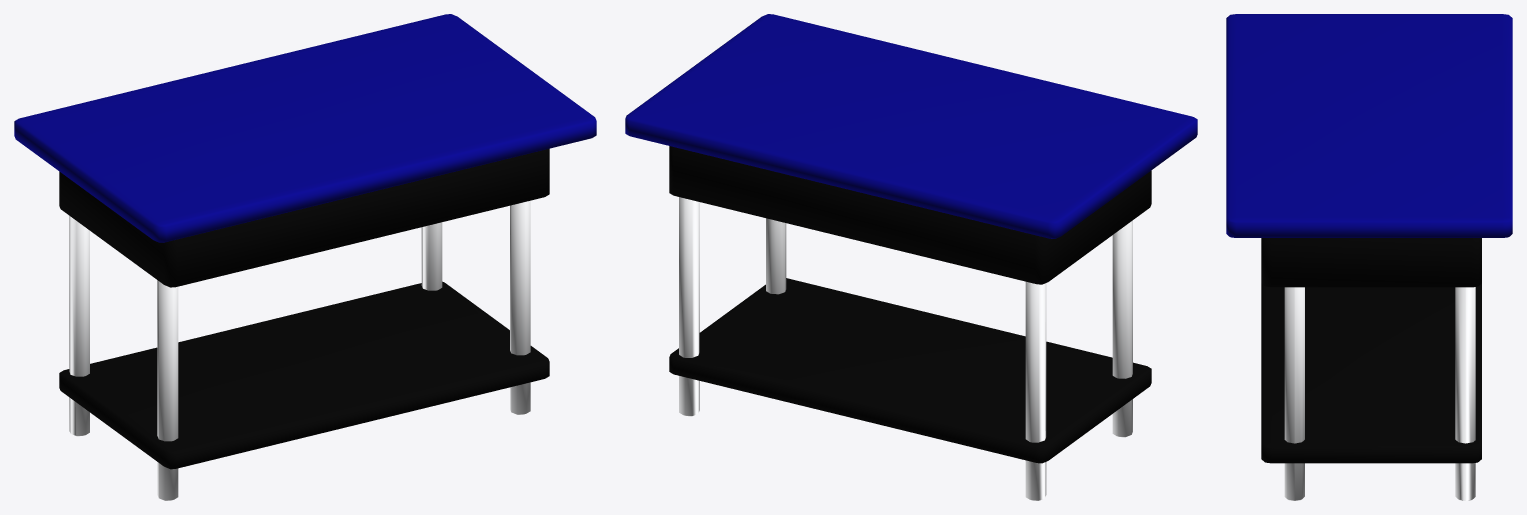
Rendered from SideTable.glb.
3 views of the same model, side by side, from view 1: azimuth 30°, elevation 25°; view 2: azimuth 150°, elevation 25°; view 3: azimuth 270°, elevation 25° (orthographic). The views are drawn at different scales.
Visible parts, largest first — view 1: SideTable; view 2: SideTable; view 3: SideTable.
Part boxes in pixels (x1=…): SideTable: x1=14, y1=14, x2=596, y2=500; SideTable: x1=625, y1=14, x2=1197, y2=500; SideTable: x1=1226, y1=14, x2=1512, y2=500.
Size of the model in its own units: 2.23 by 1.49 by 1.3.
